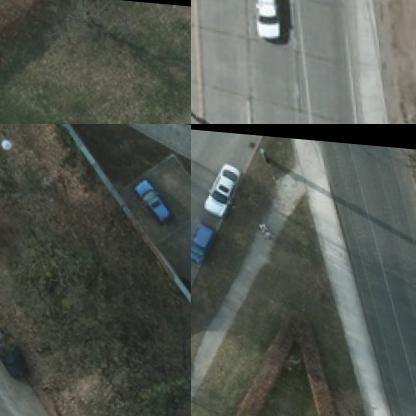car: (198, 159, 238, 219), (130, 170, 171, 220), (248, 0, 277, 39), (191, 220, 213, 271), (0, 325, 22, 375)
